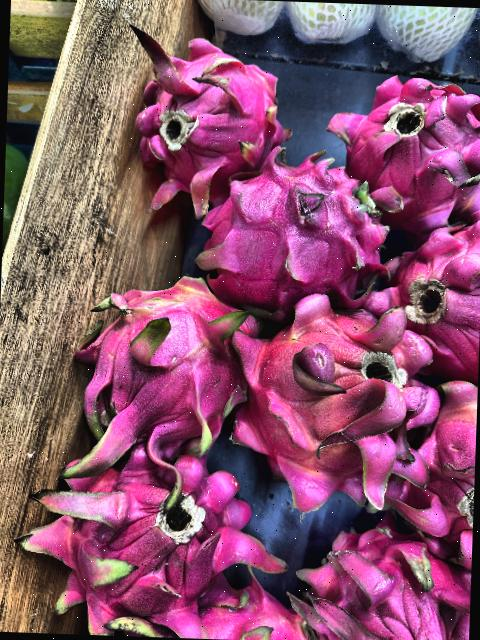buah-naga-belum-matang: (230, 286, 440, 514), (68, 269, 252, 459)
buah-naga-matang: (18, 439, 278, 626), (203, 153, 385, 304), (116, 25, 283, 188), (332, 64, 480, 223), (293, 518, 469, 640), (380, 212, 480, 377), (416, 374, 479, 564), (169, 576, 310, 640)
